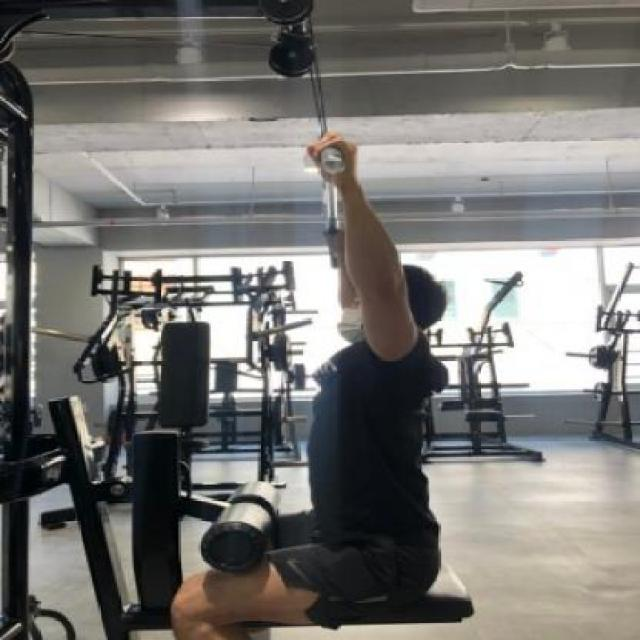Lat Pull Down: (1, 3, 514, 640)
